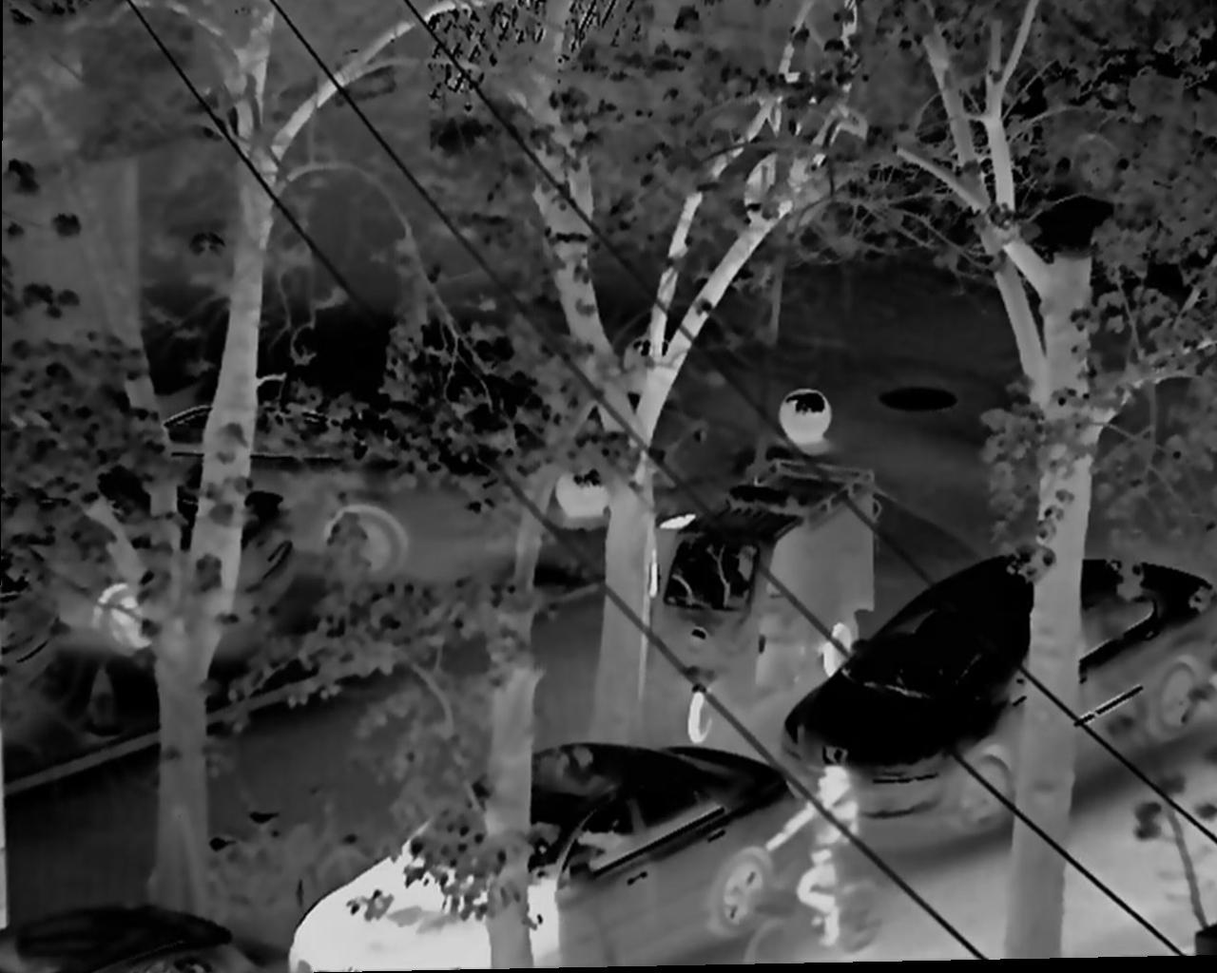person: (777, 755, 879, 935)
